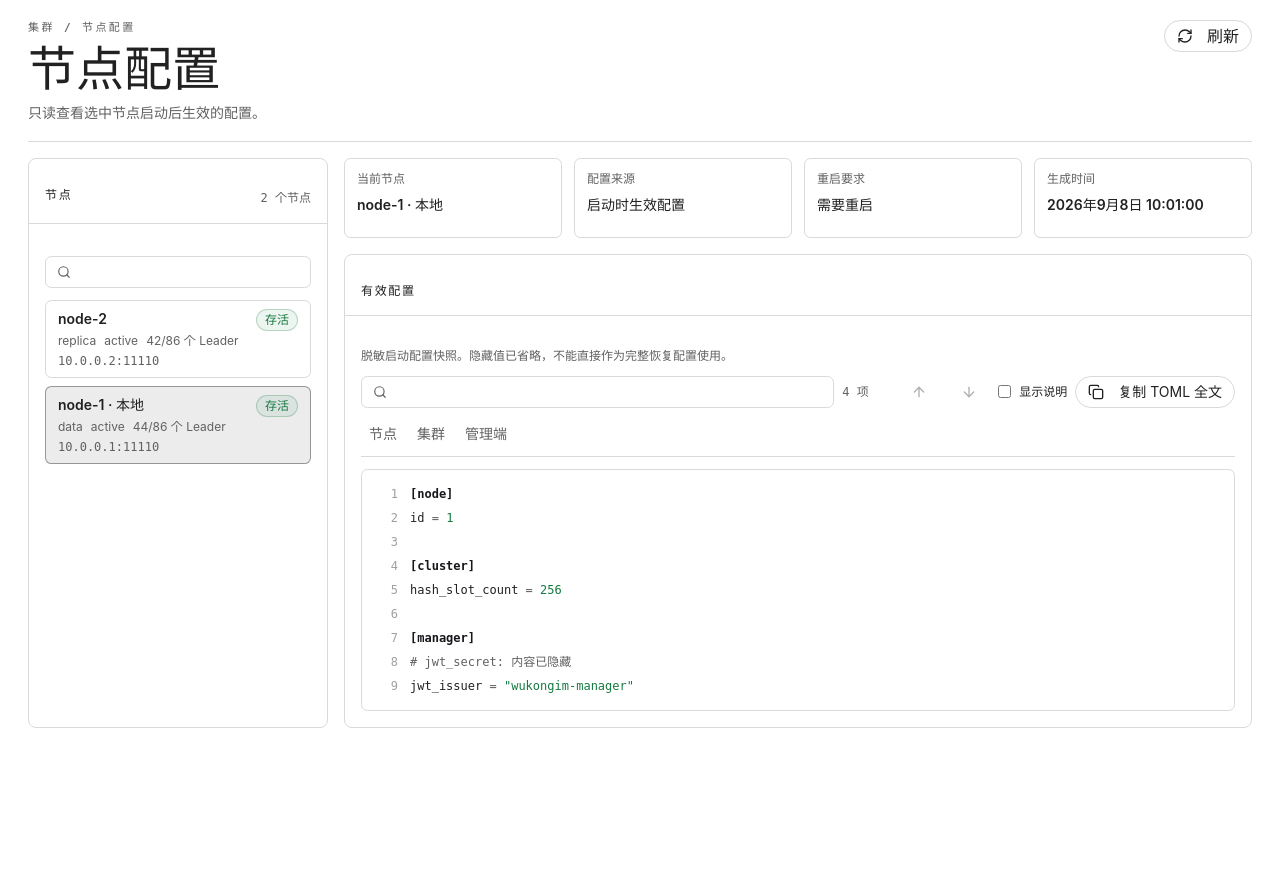
shows localized detailed descriptions and source comments on demand
Expected: the element named "启动 TOML 配置" shows "内容已隐藏", [410, 654, 571, 668]
Expected: the element named "启动 TOML 配置" does not show "默认 256", [361, 468, 1235, 710]
Click the checkbox labelled "显示说明" at (1005, 392), box [998, 385, 1011, 398]
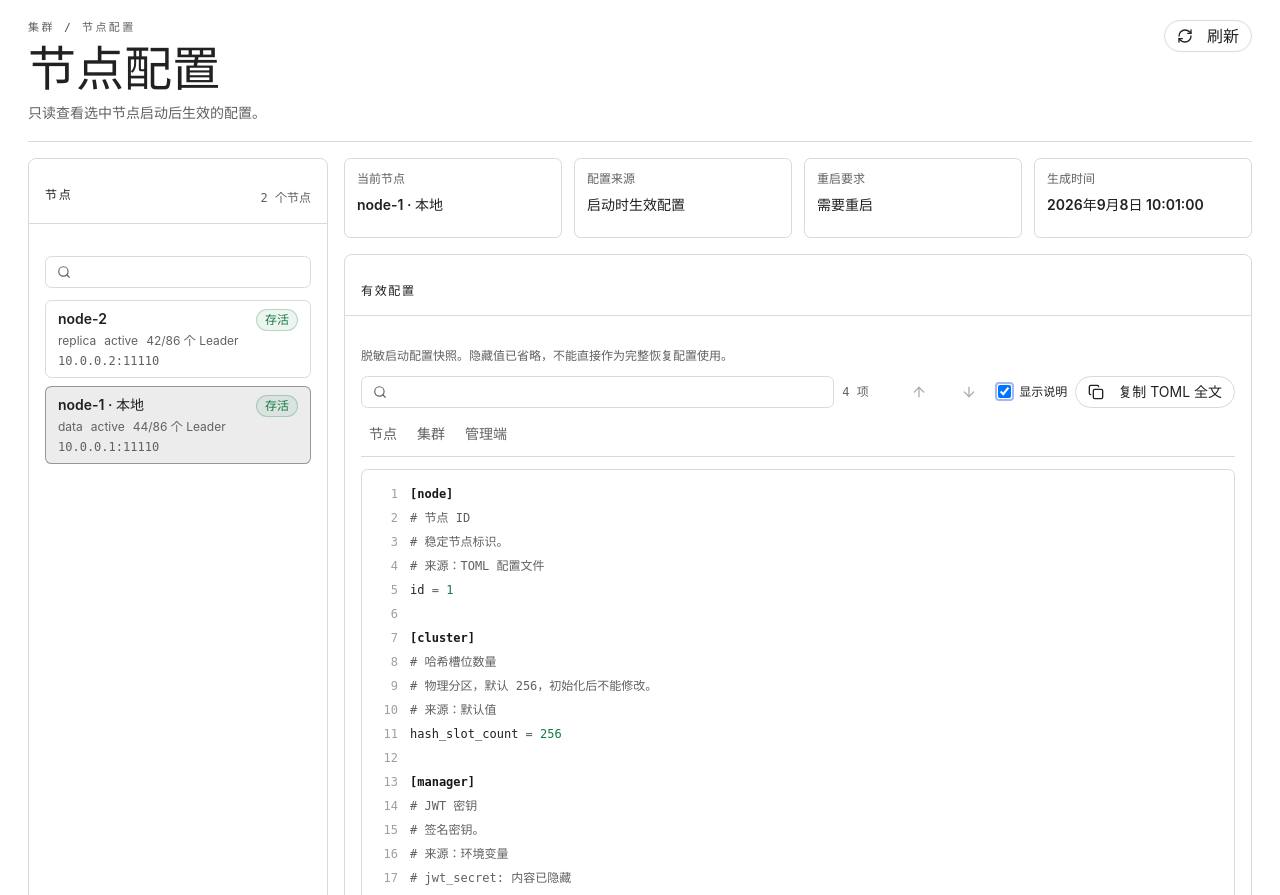
Expected: the element named "启动 TOML 配置" shows "物理分区，默认 256，初始化后不能修改。", [410, 678, 657, 692]
Expected: the element named "启动 TOML 配置" shows "哈希槽位数量", [410, 654, 496, 668]
Click the checkbox labelled "显示说明" at (1005, 392), box [998, 385, 1011, 398]
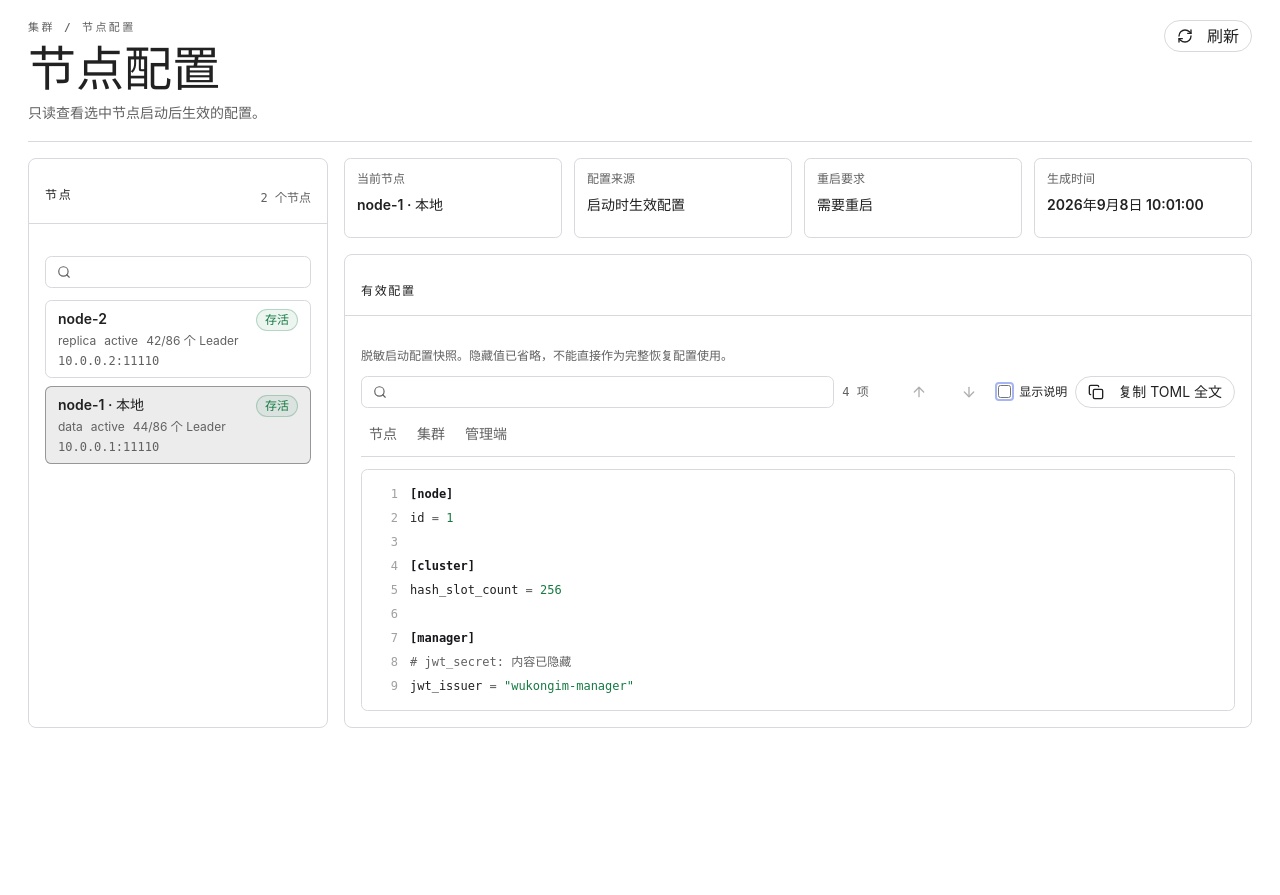
Expected: the element named "启动 TOML 配置" shows "内容已隐藏", [410, 654, 571, 668]
Expected: the element named "启动 TOML 配置" no longer shows "默认 256", [361, 468, 1235, 710]
